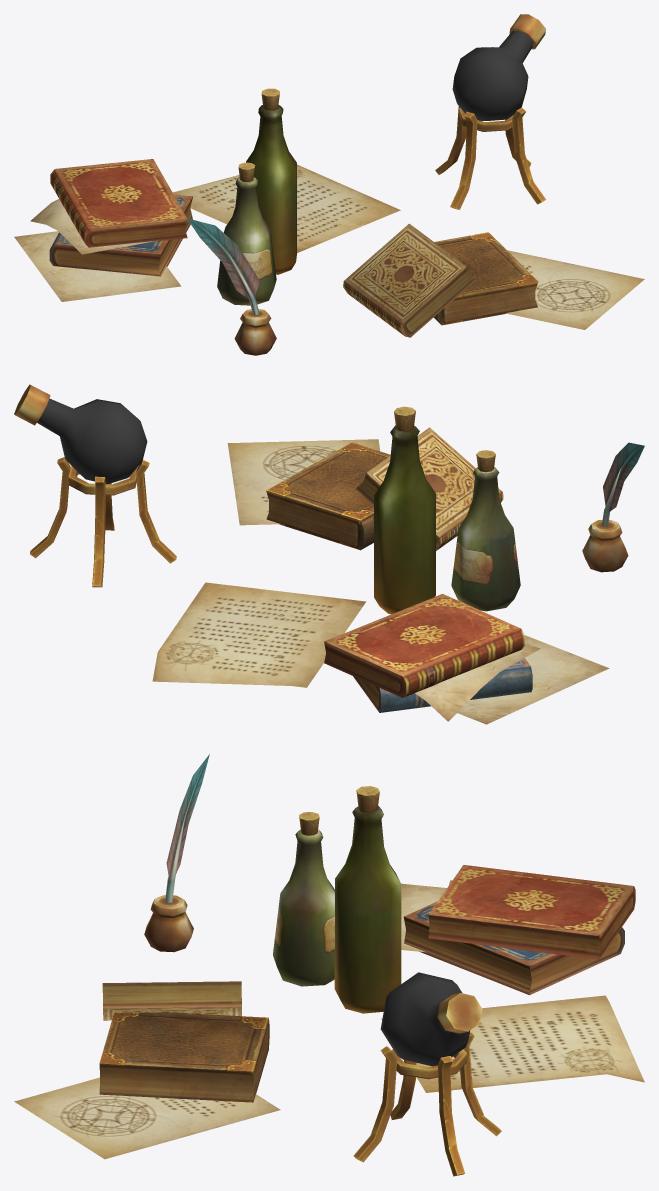
File: Table_Preset_07.FBX
3 views of the same model, one above another, from view 1: azimuth 30°, elevation 25°; view 2: azimuth 150°, elevation 25°; view 3: azimuth 270°, elevation 25° (orthographic). The views are drawn at different scales.
Parts seen in each view (by area): view 1: Table_Preset_07; view 2: Table_Preset_07; view 3: Table_Preset_07.
Part boxes in pixels (bbox=[...]): Table_Preset_07: bbox=[14, 14, 644, 355]; Table_Preset_07: bbox=[14, 384, 644, 724]; Table_Preset_07: bbox=[14, 754, 644, 1176].
Size of the model in its own units: 142 by 126 by 49.7.
